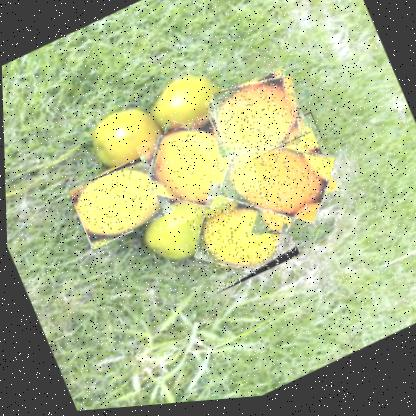orange: (208, 113, 347, 247), (133, 104, 262, 234), (183, 182, 300, 299), (202, 66, 311, 174), (66, 152, 173, 251)
